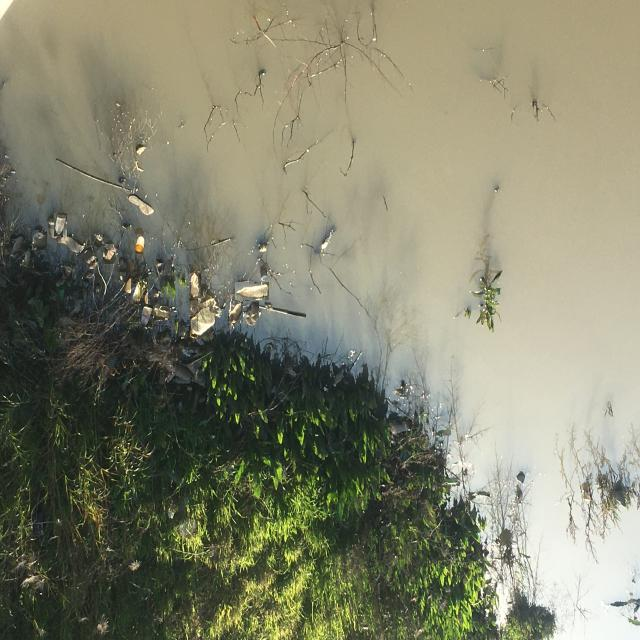Plastic bottle: (187, 307, 216, 341), (235, 282, 269, 300), (243, 301, 259, 328), (131, 279, 148, 304), (9, 235, 25, 260), (389, 420, 412, 437), (228, 301, 244, 323), (139, 305, 153, 329), (189, 271, 201, 298), (54, 213, 67, 237), (20, 246, 34, 268), (32, 230, 47, 250), (48, 215, 59, 242), (134, 234, 146, 254), (124, 276, 136, 296), (153, 306, 170, 320), (63, 262, 72, 282), (260, 267, 270, 283), (94, 234, 104, 250)
Undefined trash: (128, 194, 156, 218), (57, 233, 85, 254), (104, 244, 120, 264), (84, 252, 99, 270)
